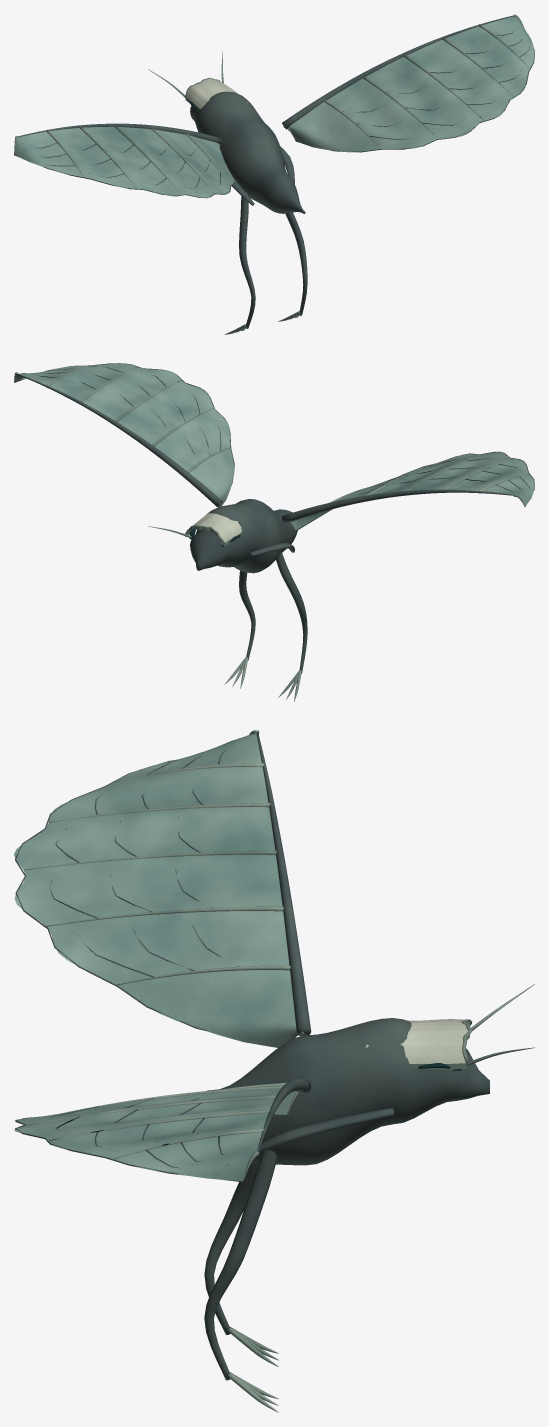
Rendered from aeral_runtime.glb.
3 renders of one model, top to bottom at view 1: azimuth 30°, elevation 25°; view 2: azimuth 150°, elevation 25°; view 3: azimuth 270°, elevation 25°, orthographic. The views are drawn at different scales.
Visible parts, largest first — view 1: Wing_R_Geometry, Wing_L_Geometry, Body_Geometry, LandingLeg_L_Geometry, LandingLeg_R_Geometry; view 2: Wing_R_Geometry, Wing_L_Geometry, Body_Geometry, LandingLeg_L_Geometry, LandingLeg_R_Geometry; view 3: Wing_L_Geometry, Body_Geometry, Wing_R_Geometry, LandingLeg_R_Geometry, LandingLeg_L_Geometry.
Part boxes in pixels (left/top/right/bottom): Wing_R_Geometry: left=282, top=14, right=534, bottom=152; Wing_L_Geometry: left=14, top=123, right=234, bottom=198; Body_Geometry: left=148, top=51, right=305, bottom=213; LandingLeg_L_Geometry: left=224, top=189, right=255, bottom=334; LandingLeg_R_Geometry: left=278, top=212, right=307, bottom=321; Wing_R_Geometry: left=14, top=363, right=234, bottom=507; Wing_L_Geometry: left=282, top=451, right=534, bottom=530; Body_Geometry: left=148, top=499, right=297, bottom=573; LandingLeg_L_Geometry: left=276, top=551, right=307, bottom=701; LandingLeg_R_Geometry: left=224, top=570, right=255, bottom=688; Wing_L_Geometry: left=14, top=730, right=311, bottom=1047; Body_Geometry: left=207, top=984, right=534, bottom=1165; Wing_R_Geometry: left=14, top=1078, right=311, bottom=1182; LandingLeg_R_Geometry: left=204, top=1150, right=278, bottom=1412; LandingLeg_L_Geometry: left=204, top=1163, right=278, bottom=1366.
Bounding box in the file's own units: 5.72 × 2.73 × 2.91.
3 materials, 3 textured.
